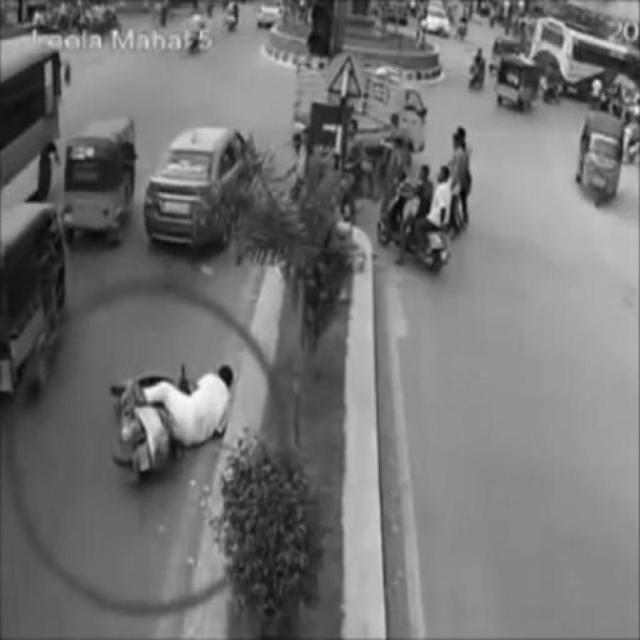vehicle: (111, 366, 235, 477), (149, 124, 251, 244), (65, 118, 131, 249), (387, 167, 459, 271)
